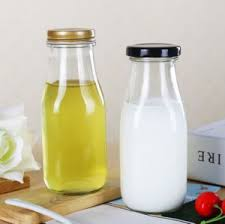milk: (125, 47, 206, 212)
